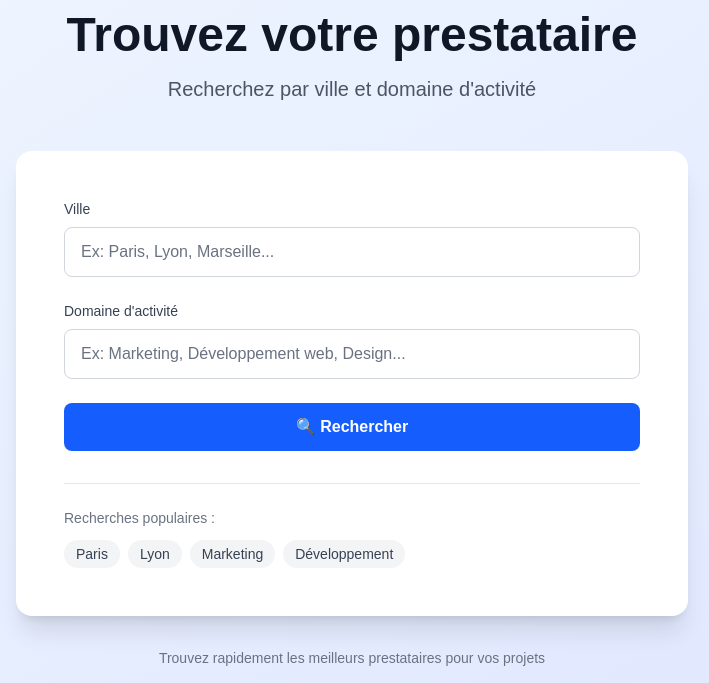
Test: Home Page › updates ville input when ville suggestion is clicked
The width and height of the screenshot is (709, 683).
Click the button "Paris" at x=92, y=554, box 64,540 -> 120,568
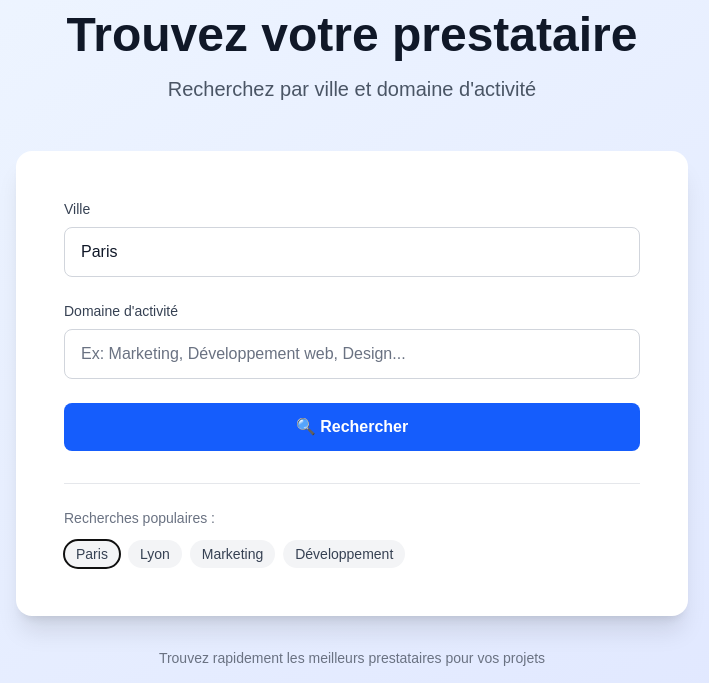
Expected: the field labelled "Ville" holds "Paris", 64,226 -> 640,276
